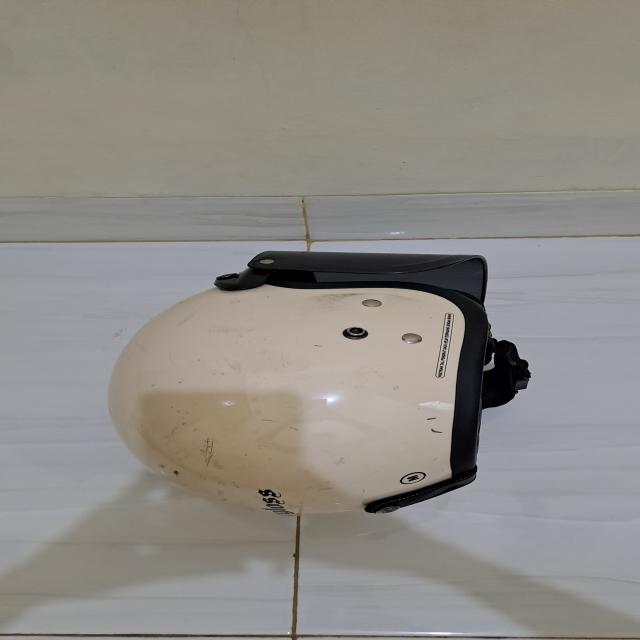Helm: (106, 244, 528, 522)
